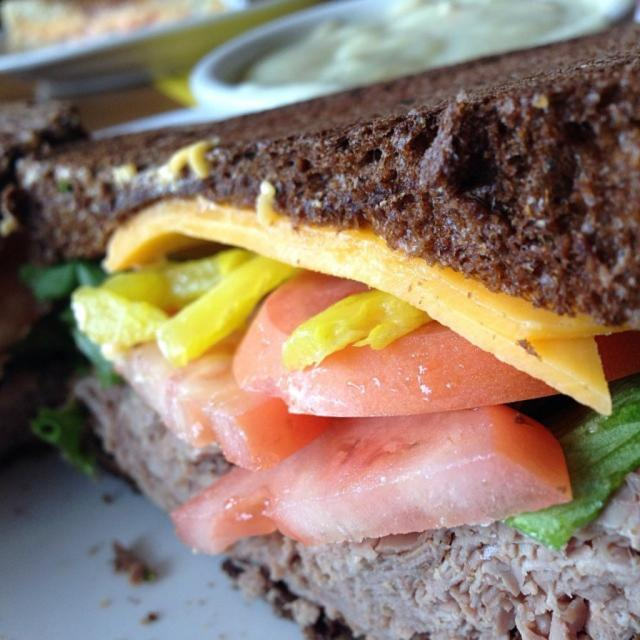Sandwich: (2, 1, 639, 639)
